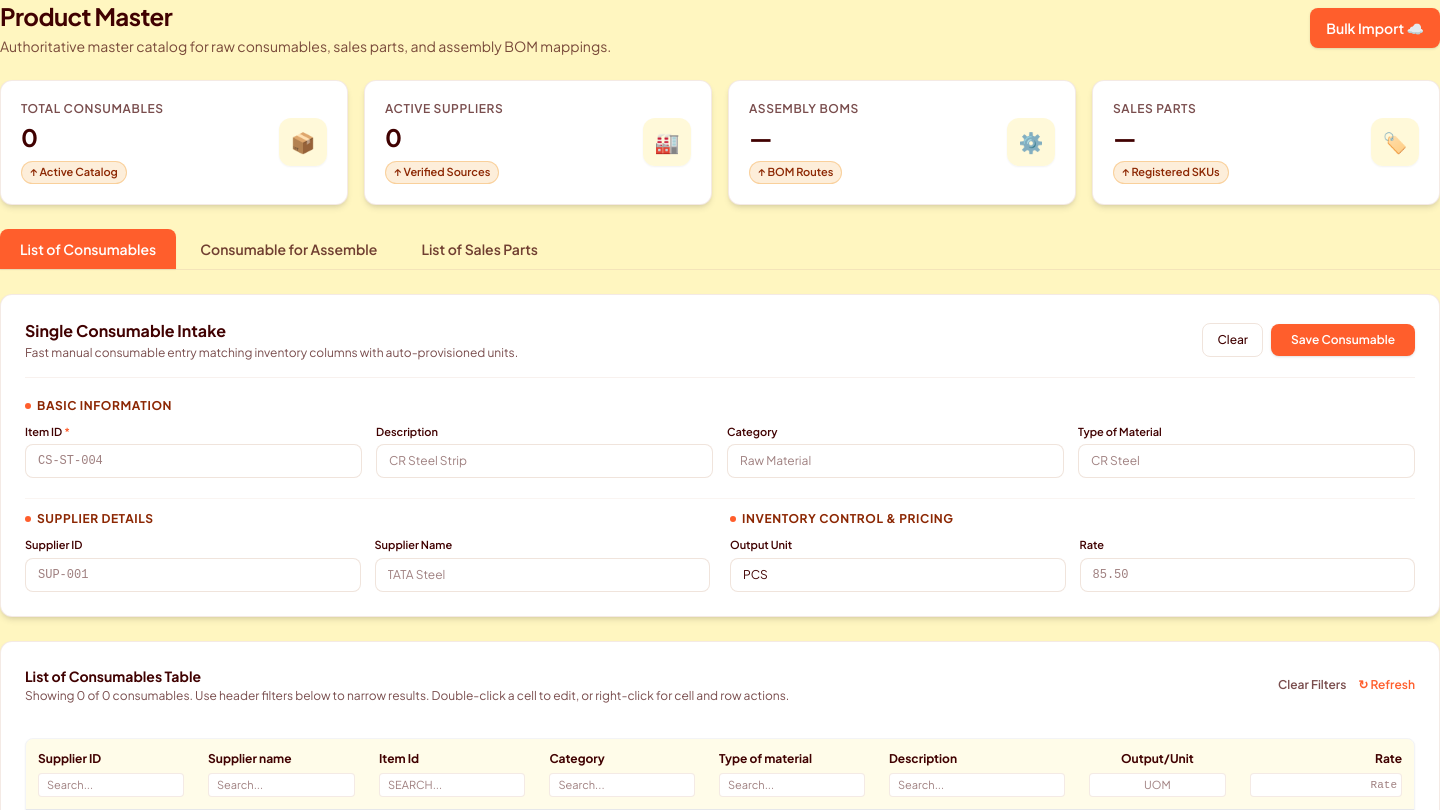
Scenario: renders Consumable for Assemble tab with all 9 updated form labels and table column headers
# Switch to Consumable for Assemble tab
Click the button "Consumable for Assemble" at (289, 248), box x1=180 y1=228 x2=397 y2=268
(page scrolled)
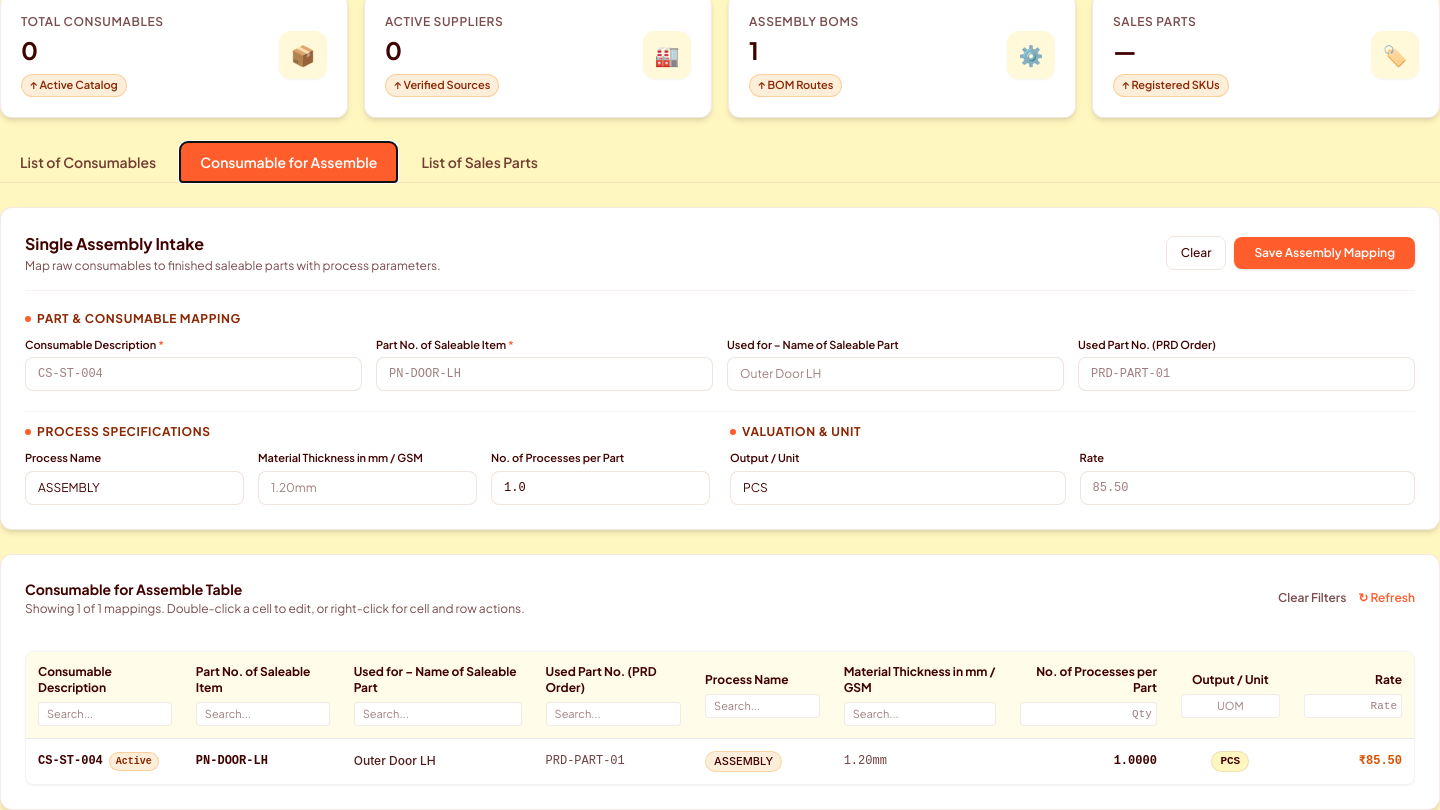
Expected: the text "Consumable Description *" is shown, x1=25 y1=338 x2=164 y2=350
Expected: the text "Part No. of Saleable Item *" is shown, x1=376 y1=338 x2=514 y2=350
Expected: the text "Used for – Name of Saleable Part" is shown, x1=727 y1=338 x2=899 y2=350
